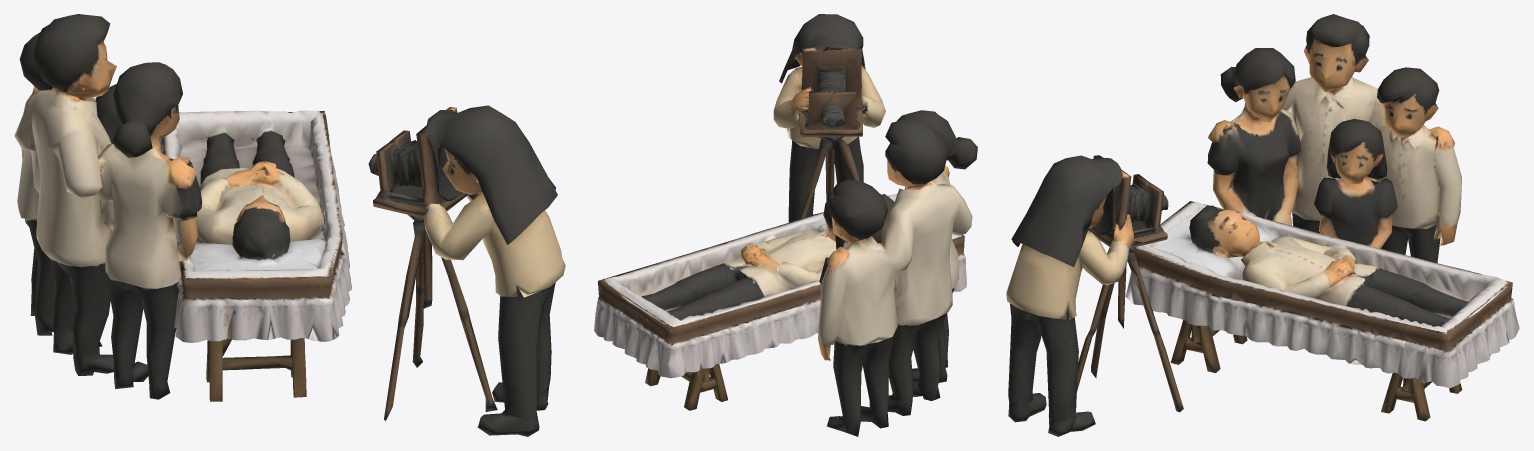
File: Recuerdos-512(10k).glb
3 views of the same model, side by side, from view 1: azimuth 30°, elevation 25°; view 2: azimuth 150°, elevation 25°; view 3: azimuth 270°, elevation 25° (orthographic). The views are drawn at different scales.
Visible parts, largest first — view 1: tripo_node_11c18287-4fe5-47f0-b88e-90f11f9f52f4; view 2: tripo_node_11c18287-4fe5-47f0-b88e-90f11f9f52f4; view 3: tripo_node_11c18287-4fe5-47f0-b88e-90f11f9f52f4.
Boxes of the visible parts, x1,y1,x2,y2 form: tripo_node_11c18287-4fe5-47f0-b88e-90f11f9f52f4: [14, 14, 565, 436]; tripo_node_11c18287-4fe5-47f0-b88e-90f11f9f52f4: [594, 14, 977, 436]; tripo_node_11c18287-4fe5-47f0-b88e-90f11f9f52f4: [1006, 14, 1519, 436].
Bounding box in the file's own units: 0.6742 × 0.6124 × 0.9786.
1 material, 1 textured.
